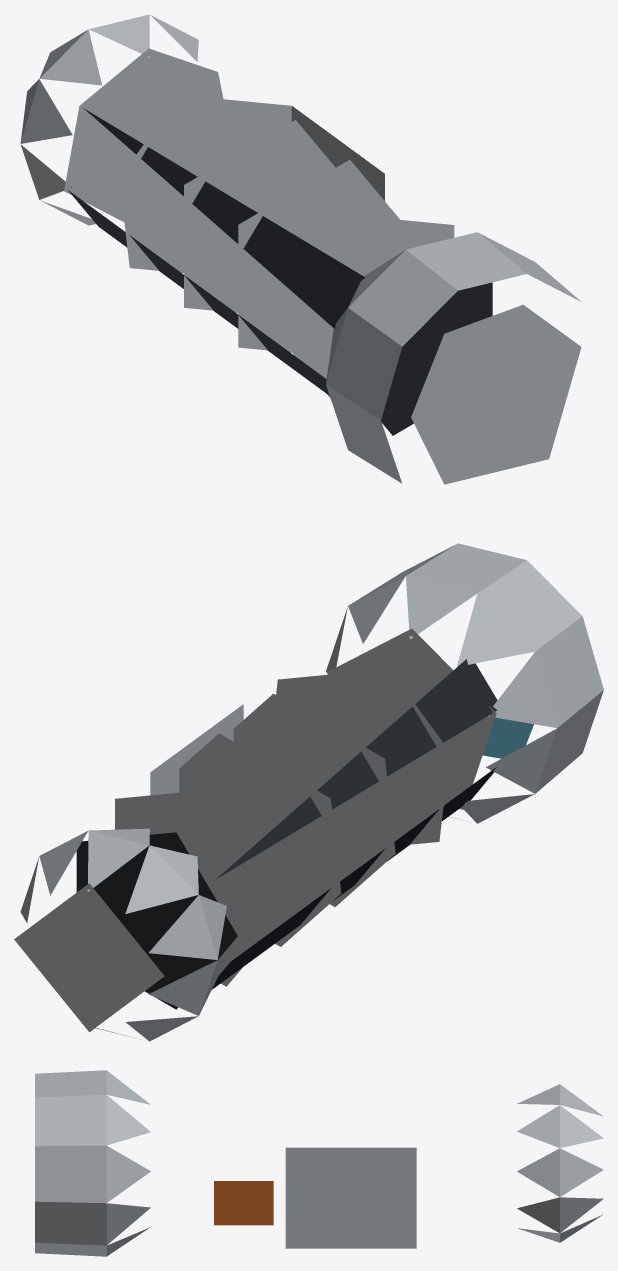
The model's file is saber-whip.lod.glb.
The picture shows the model from 3 angles, top to bottom: view 1: azimuth 30°, elevation 25°; view 2: azimuth 150°, elevation 25°; view 3: azimuth 270°, elevation 25°; orthographic projection. The views are drawn at different scales.
Parts seen in each view (by area): view 1: m; view 2: m; view 3: m.
Boxes of the visible parts, left/top/right/bottom form: m: left=20, top=14, right=581, bottom=484; m: left=14, top=543, right=603, bottom=1041; m: left=35, top=1070, right=603, bottom=1256.
Size of the model in its own units: 0.0264 by 0.0251 by 0.0828.
